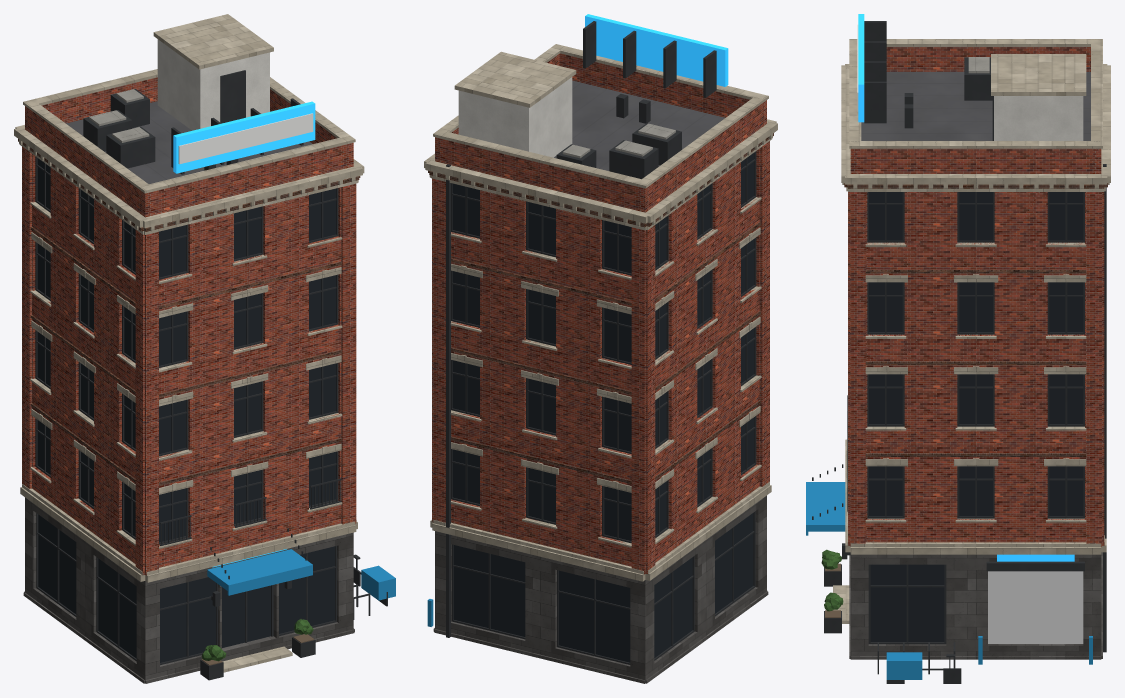
File: Gercekci_merkez_ofis.fbx
3 renders of one model, left to right at view 1: azimuth 30°, elevation 25°; view 2: azimuth 150°, elevation 25°; view 3: azimuth 270°, elevation 25°, orthographic. The views are drawn at different scales.
Parts seen in each view (by area): view 1: MerkezOfis; view 2: MerkezOfis; view 3: MerkezOfis.
Boxes of the visible parts, left/top/right/bottom form: MerkezOfis: left=14, top=14, right=395, bottom=683; MerkezOfis: left=424, top=14, right=777, bottom=683; MerkezOfis: left=806, top=14, right=1110, bottom=683.
Bounding box in the file's own units: 11.12 × 20.75 × 10.22.
